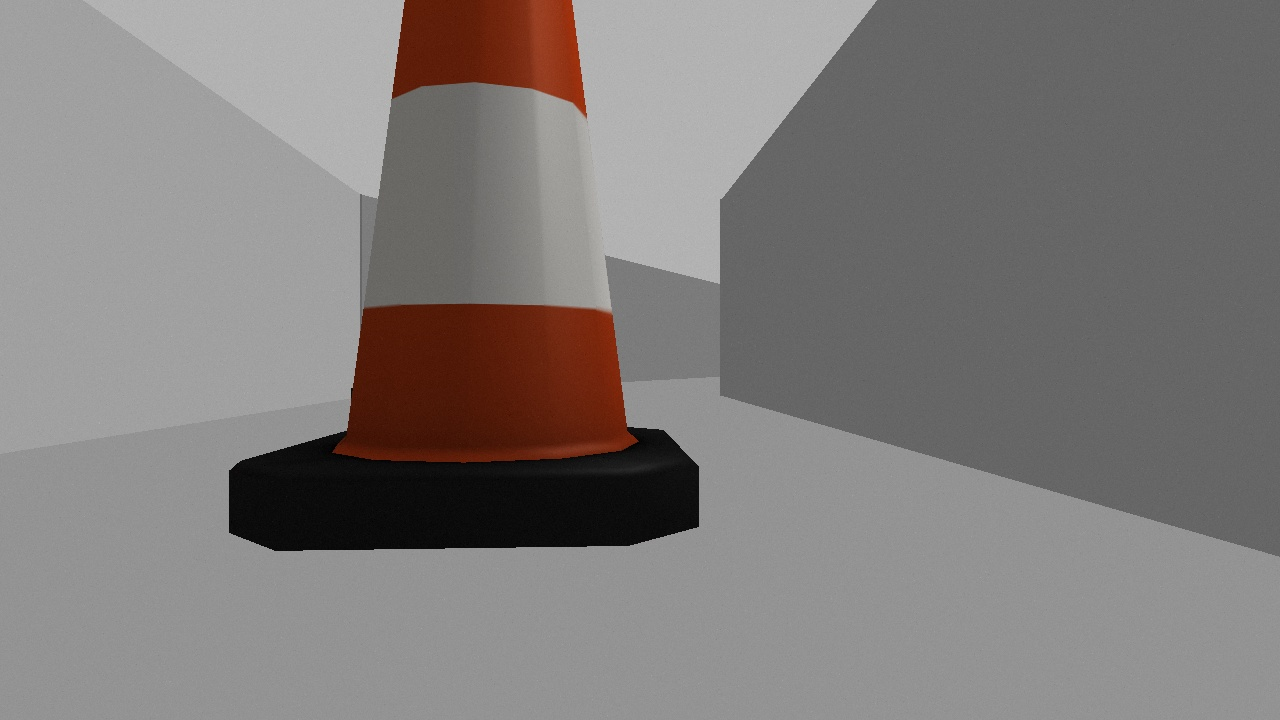barricade: (215, 1, 725, 561)
